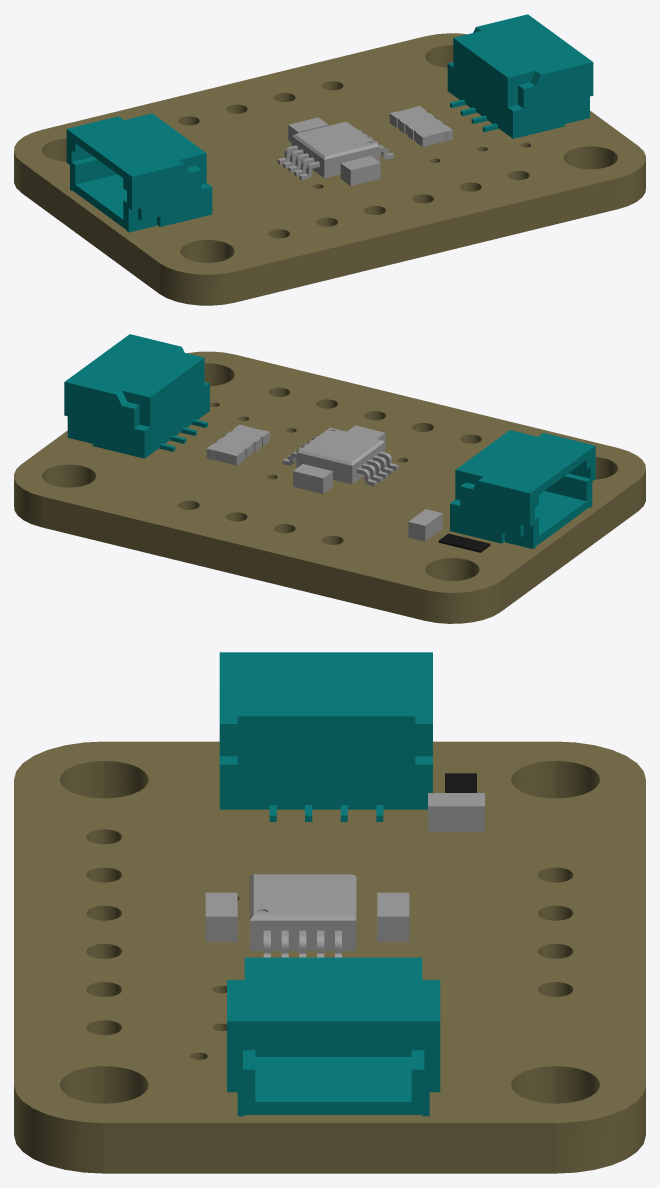
File: ada-4286.glb
The picture shows the model from 3 angles, top to bottom: view 1: azimuth 30°, elevation 25°; view 2: azimuth 150°, elevation 25°; view 3: azimuth 270°, elevation 25°; orthographic projection. The views are drawn at different scales.
Visible parts, largest first — view 1: 0.16666666666666666_0.16666666666666666_0.08333333333333333_, 0_0.25_0.25_0, 0.3333333333333333_0.3333333333333333_0.3333333333333333_0; view 2: 0.16666666666666666_0.16666666666666666_0.08333333333333333_, 0_0.25_0.25_0, 0.3333333333333333_0.3333333333333333_0.3333333333333333_0, 0_0_0_0; view 3: 0.16666666666666666_0.16666666666666666_0.08333333333333333_, 0_0.25_0.25_0, 0.3333333333333333_0.3333333333333333_0.3333333333333333_0.
Part boxes in pixels (<box>): 0.16666666666666666_0.16666666666666666_0.08333333333333333_: <box>14,33,645,305</box>; 0_0.25_0.25_0: <box>66,14,593,232</box>; 0.3333333333333333_0.3333333333333333_0.3333333333333333_0: <box>277,106,452,185</box>; 0.16666666666666666_0.16666666666666666_0.08333333333333333_: <box>14,351,645,623</box>; 0_0.25_0.25_0: <box>64,334,595,549</box>; 0.3333333333333333_0.3333333333333333_0.3333333333333333_0: <box>206,424,442,541</box>; 0_0_0_0: <box>438,533,490,552</box>; 0.16666666666666666_0.16666666666666666_0.08333333333333333_: <box>14,741,645,1173</box>; 0_0.25_0.25_0: <box>219,652,440,1116</box>; 0.3333333333333333_0.3333333333333333_0.3333333333333333_0: <box>205,793,484,957</box>.
Bounding box in the file's own units: 2.54 × 0.453 × 1.78.
